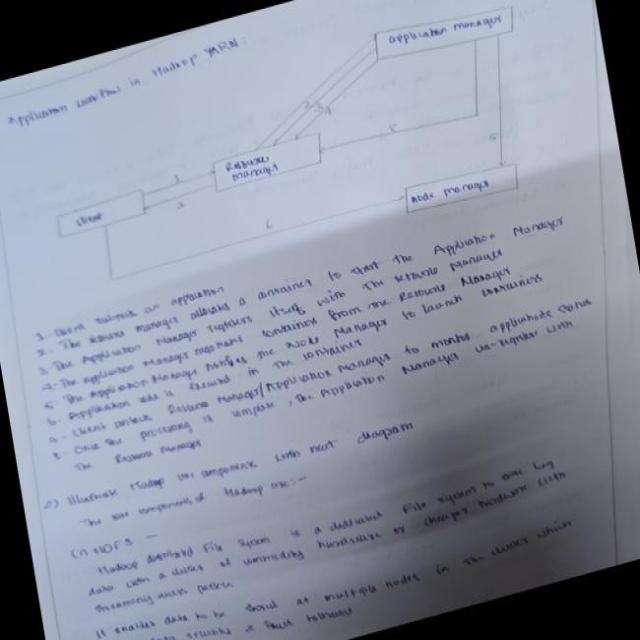Figure Detection - v3 Dataset Version2: (23, 0, 571, 325)
